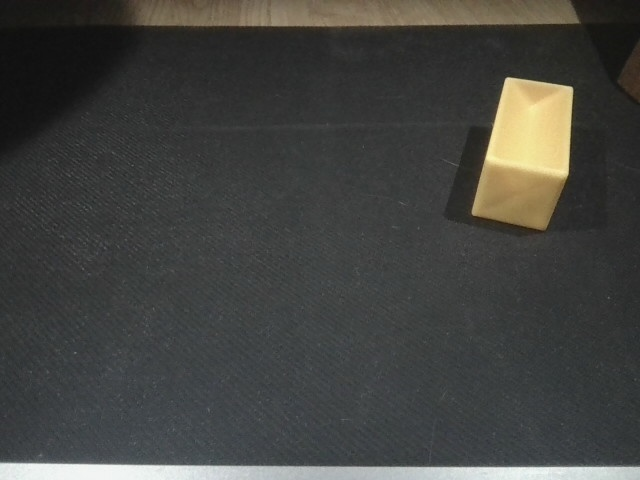YellowSample: (467, 72, 579, 241)
